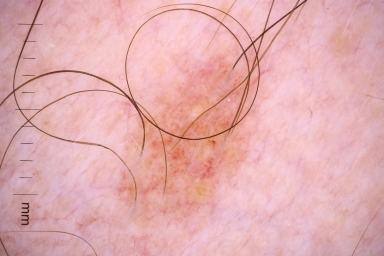nevus: (121, 54, 243, 205)
